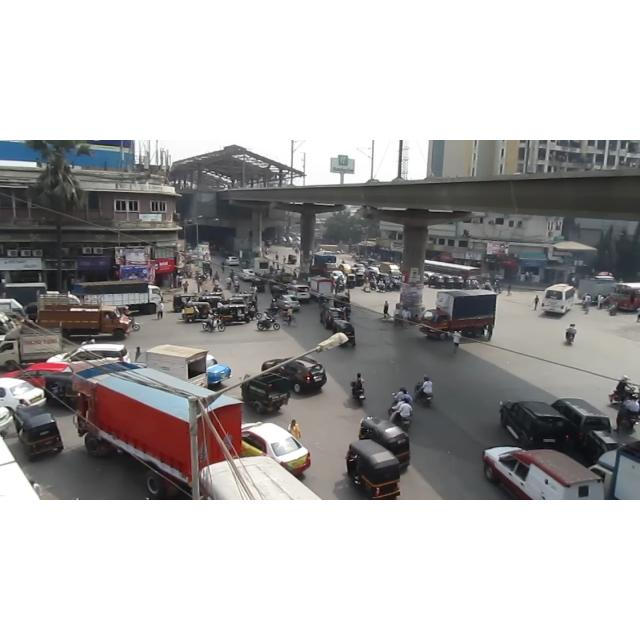auto: (345, 435, 406, 500), (12, 408, 70, 462), (359, 414, 411, 470), (180, 301, 212, 326), (220, 303, 252, 325), (334, 322, 358, 349), (170, 294, 199, 314), (428, 271, 446, 293), (250, 278, 268, 294), (452, 274, 468, 290), (271, 284, 286, 300), (355, 271, 367, 289), (346, 274, 359, 290), (286, 253, 302, 265)
truck: (71, 361, 241, 499), (37, 294, 131, 340), (419, 289, 497, 339), (72, 280, 164, 314), (134, 345, 208, 387), (1, 324, 63, 372), (594, 442, 640, 500), (309, 276, 335, 300), (253, 257, 271, 275)
